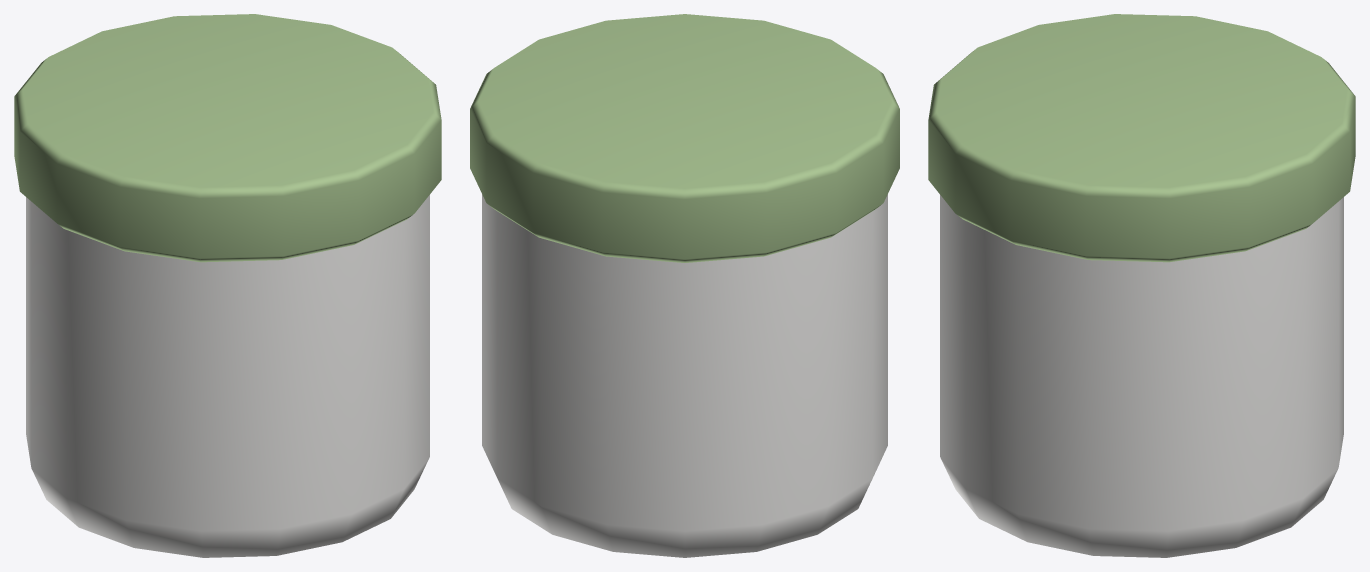
File: Bottle_6.glb
The picture shows the model from 3 angles, left to right: view 1: azimuth 30°, elevation 25°; view 2: azimuth 150°, elevation 25°; view 3: azimuth 270°, elevation 25°; orthographic projection.
Visible parts, largest first — view 1: Bottle_6; view 2: Bottle_6; view 3: Bottle_6.
Boxes of the visible parts, <box> form: Bottle_6: <box>14,14,441,557</box>; Bottle_6: <box>470,14,899,557</box>; Bottle_6: <box>928,14,1355,557</box>.
Size of the model in its own units: 0.148 by 0.15 by 0.148.
2 materials, 2 textured.
